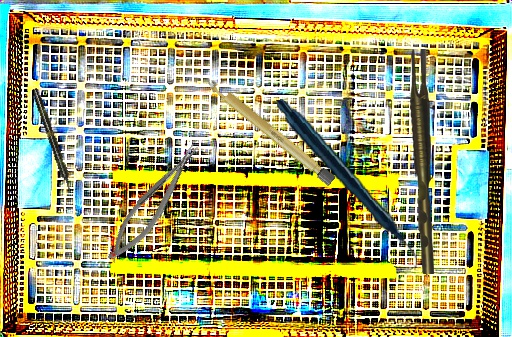Handpiece: (276, 88, 418, 280), (30, 87, 75, 194)
Needle Holder: (98, 139, 210, 268)
Scalpel Handle: (205, 76, 337, 187)
Tissue Forceps: (410, 49, 434, 274)
